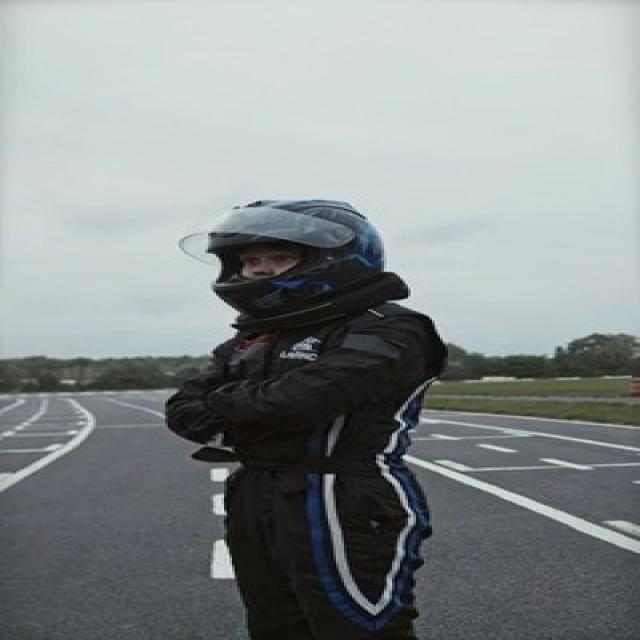Helmet_Wearer: (194, 193, 428, 324)
Jacket_Wearer: (182, 296, 457, 458)
Person: (168, 188, 478, 634)
